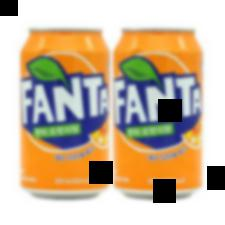fanta_orange: (111, 26, 205, 201), (19, 27, 110, 200)
